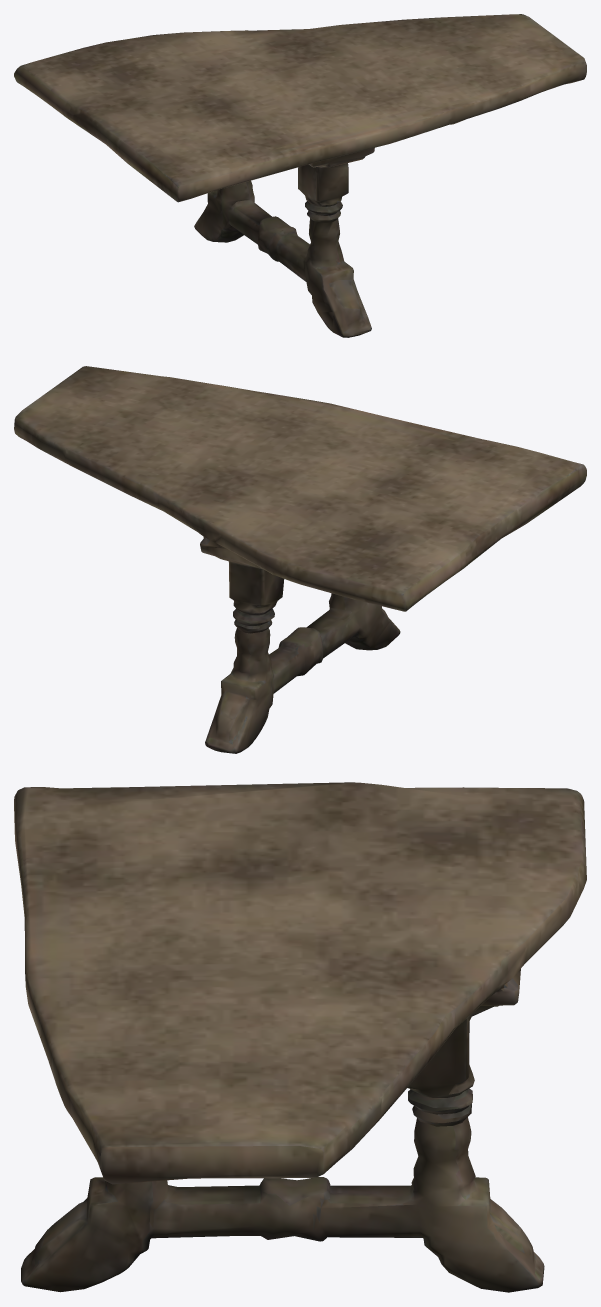
The model's file is weathered-wood-banquet-table-v002.glb.
The picture shows the model from 3 angles, top to bottom: view 1: azimuth 30°, elevation 25°; view 2: azimuth 150°, elevation 25°; view 3: azimuth 270°, elevation 25°; orthographic projection. The views are drawn at different scales.
Parts seen in each view (by area): view 1: weathered-wood-banquet-table; view 2: weathered-wood-banquet-table; view 3: weathered-wood-banquet-table.
Part boxes in pixels (x1,y1,x2,y2): weathered-wood-banquet-table: [14, 14, 586, 337]; weathered-wood-banquet-table: [14, 366, 586, 753]; weathered-wood-banquet-table: [14, 782, 586, 1292].
Bounding box in the file's own units: 1.86 × 0.8384 × 1.23.
1 material, 1 textured.
